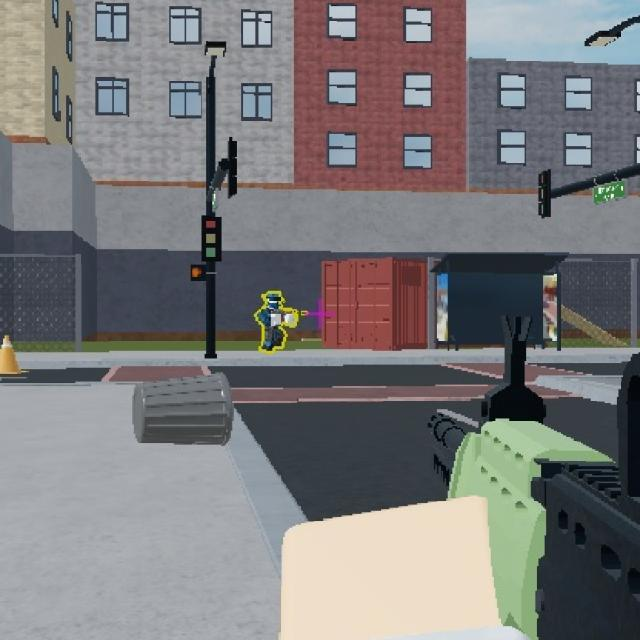player: (258, 288, 288, 357)
